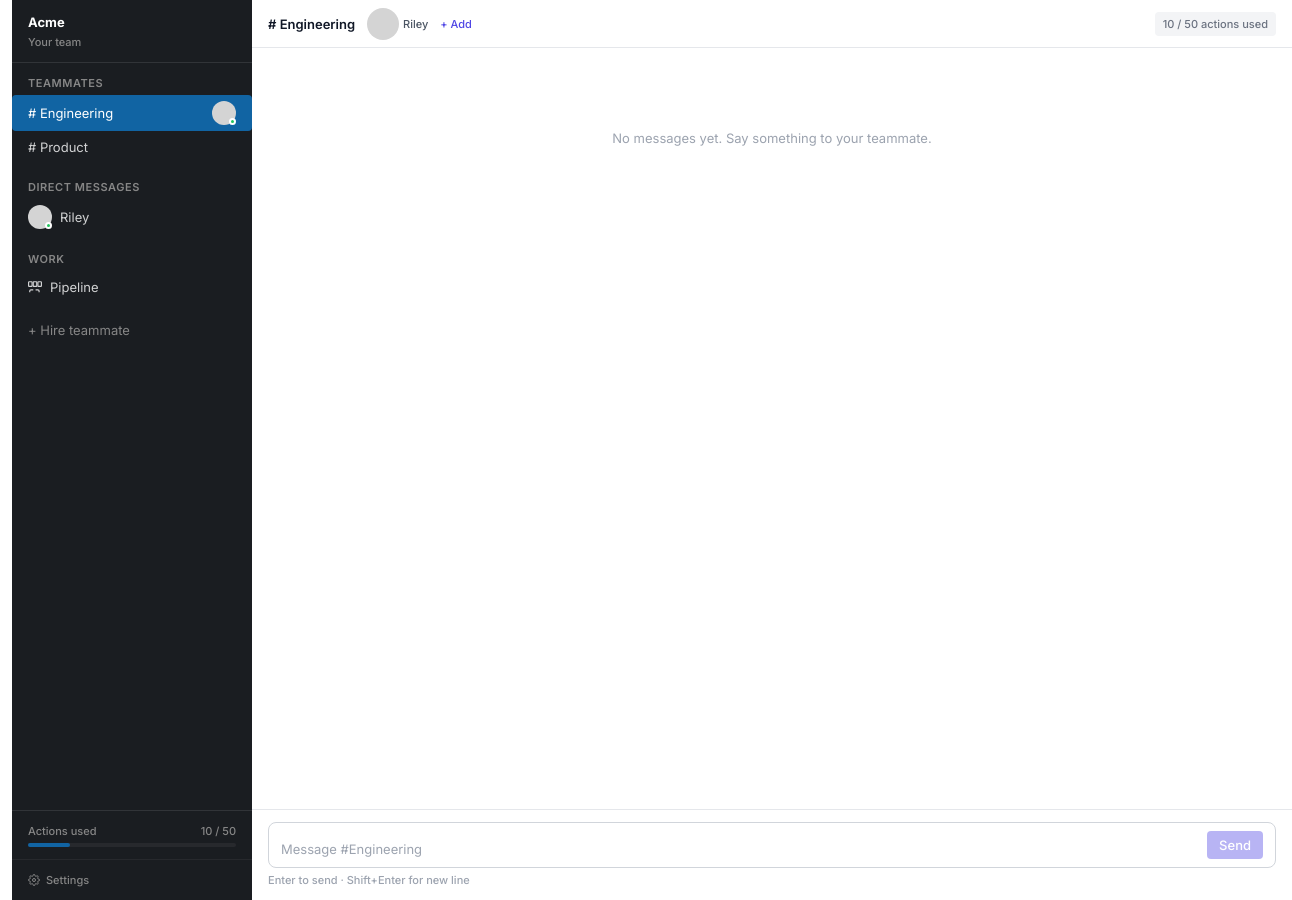
WorkspaceShell — Pipeline panel › clicking a channel after pipeline collapses pipeline and shows chat
The image size is (1292, 900).
# Open pipeline
Click the button with test id "pipeline-link": x=132, y=287 12,271 -> 252,303
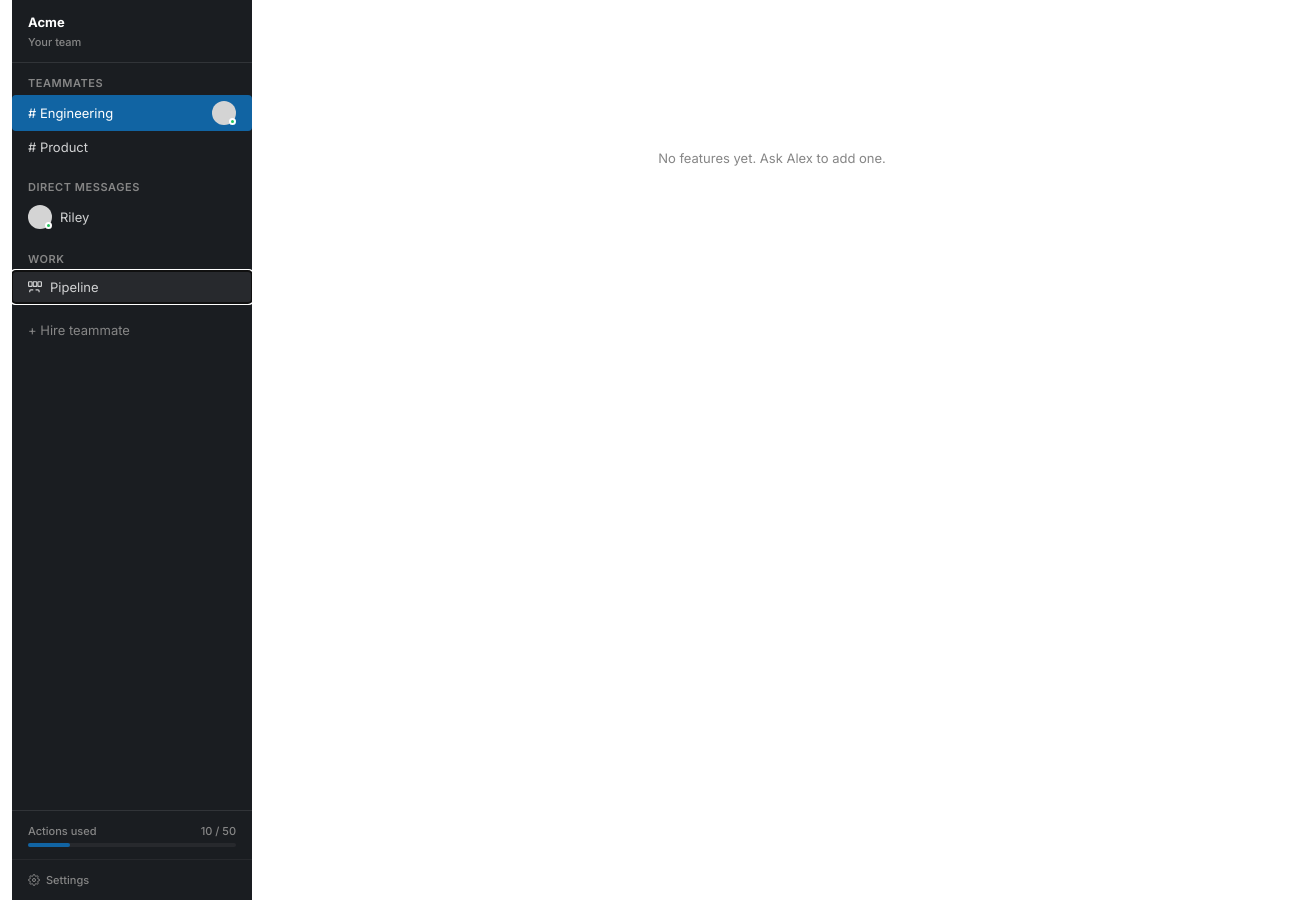
Expected: the element with test id "pipeline-panel" is shown, 284,34 -> 886,166
# Click a channel to collapse
Click the button with test id "channel-ch-1": x=132, y=113 12,95 -> 252,131
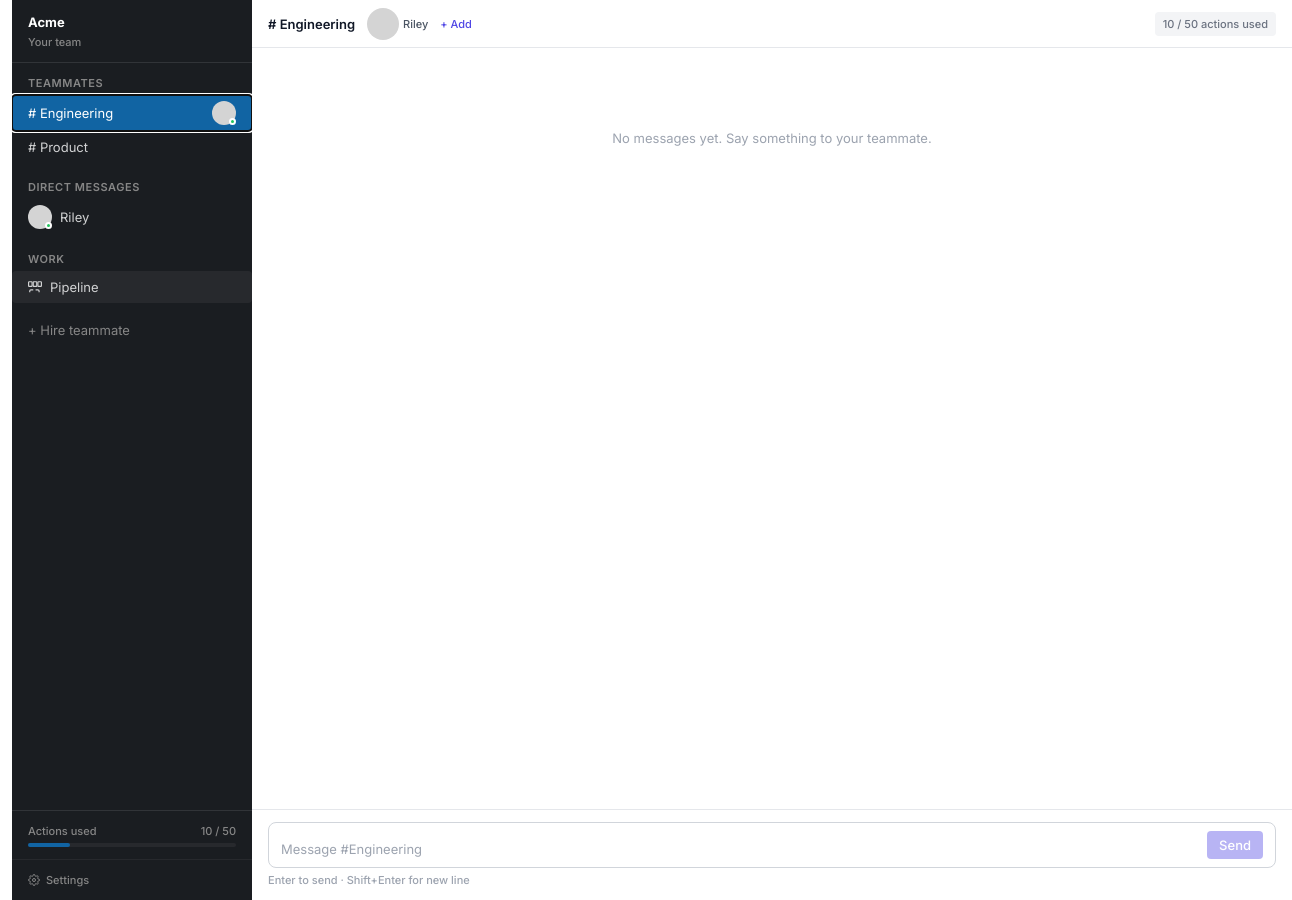
Expected: the element with test id "pipeline-panel" is gone
